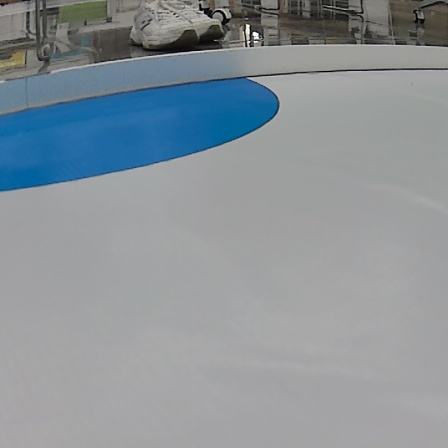blue_base: (0, 76, 280, 196)
